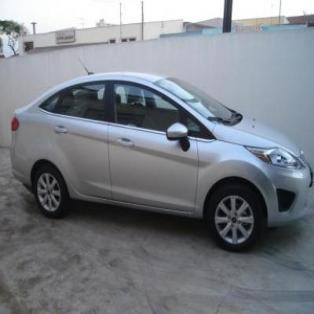Auto: (12, 70, 311, 252)
